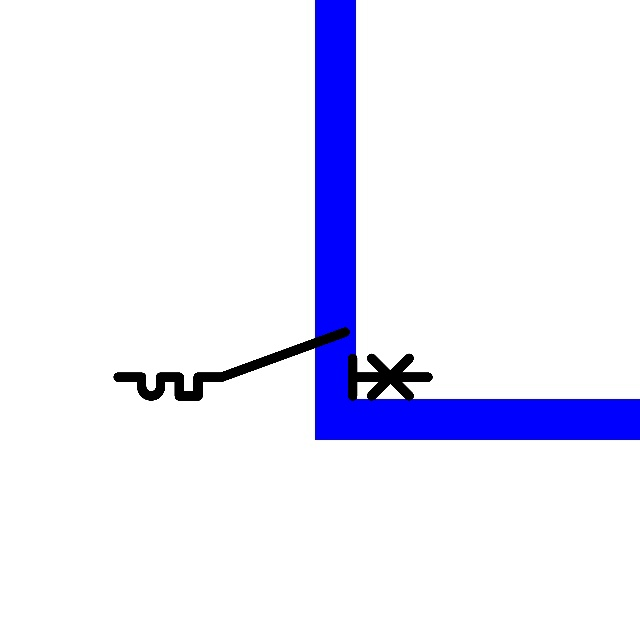interruptor_termomagnetico: (110, 324, 436, 404)
